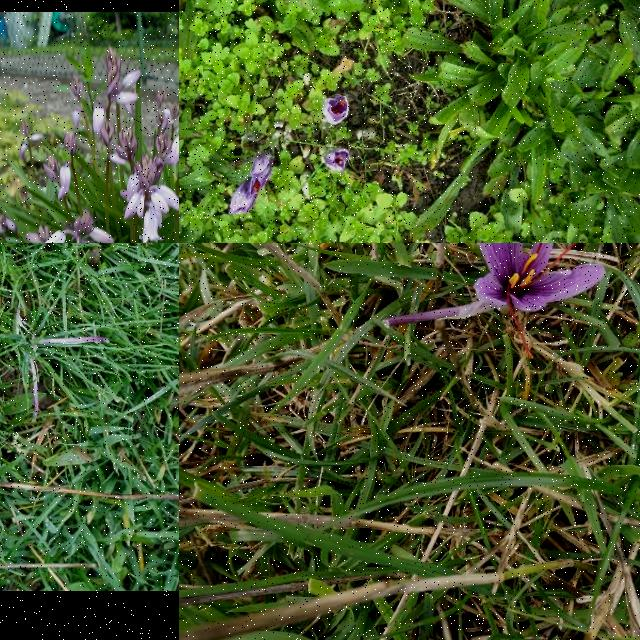flower: (473, 243, 606, 357), (324, 94, 350, 126), (324, 148, 352, 174)
overlap: (230, 151, 274, 215)
